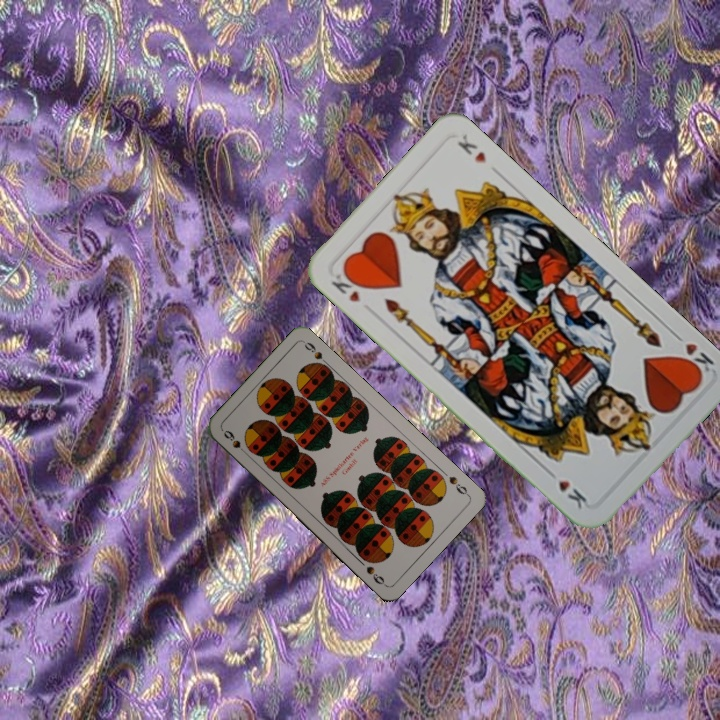HK: (668, 328, 717, 379), (327, 265, 367, 305)
S9: (220, 426, 252, 458), (445, 472, 472, 498)
